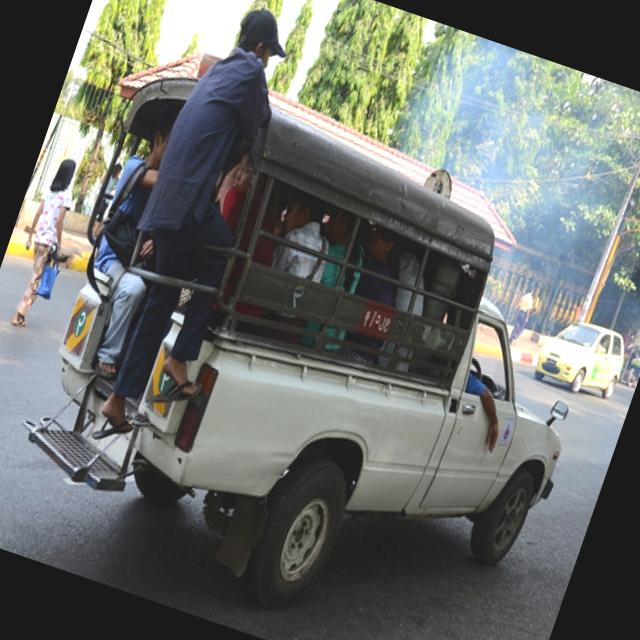Vehicle: (0, 0, 640, 640), (530, 309, 632, 405)
